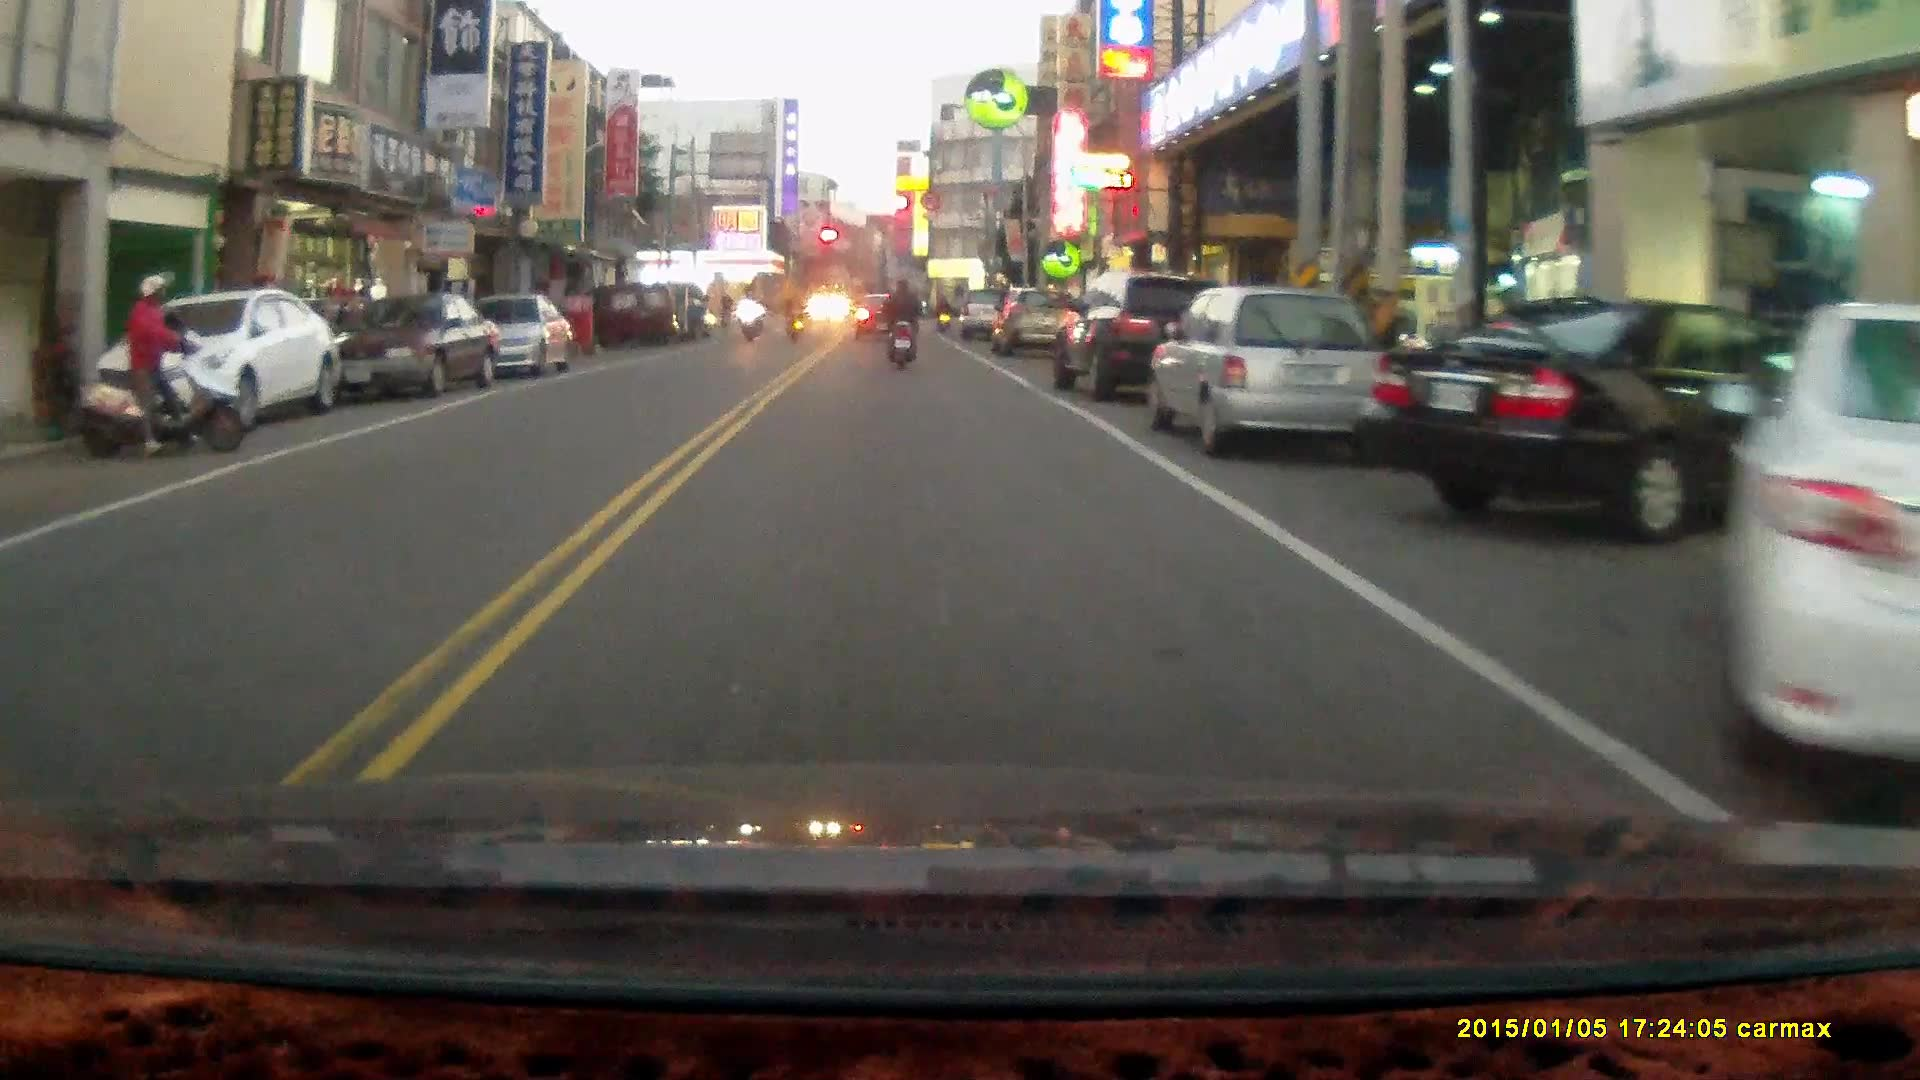rider: (70, 269, 253, 460), (882, 272, 923, 370), (781, 287, 807, 346), (736, 291, 761, 343), (714, 286, 734, 339), (932, 292, 953, 335)
vehicle: (1367, 297, 1836, 551), (1716, 345, 1920, 775), (1146, 288, 1381, 455), (77, 290, 346, 433), (1052, 269, 1252, 404), (317, 297, 494, 406), (456, 294, 575, 381), (997, 289, 1070, 362), (593, 285, 675, 349)
